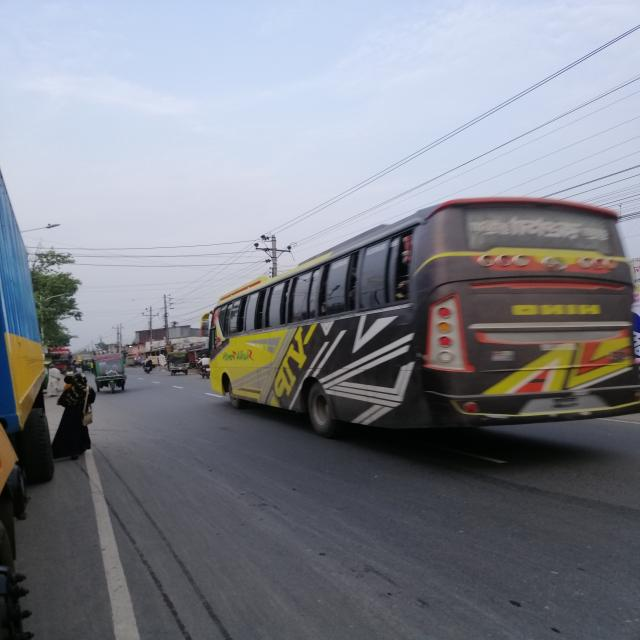Bus: (206, 199, 635, 444)
